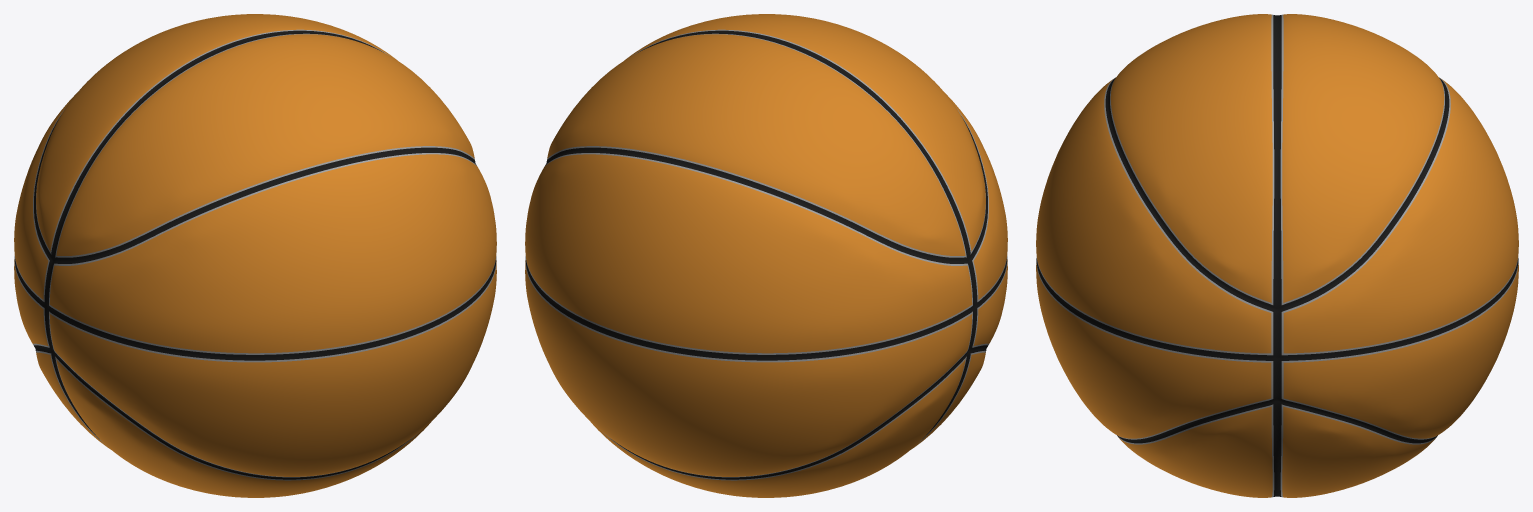
File: basketball.fbx
The picture shows the model from 3 angles, left to right: view 1: azimuth 30°, elevation 25°; view 2: azimuth 150°, elevation 25°; view 3: azimuth 270°, elevation 25°; orthographic projection.
Visible parts, largest first — view 1: Cube; view 2: Cube; view 3: Cube.
Part boxes in pixels (x1,y1,x2,y2): Cube: (14,14,496,497); Cube: (525,14,1007,497); Cube: (1036,14,1518,497).
Bounding box in the file's own units: 194 × 194 × 193.
